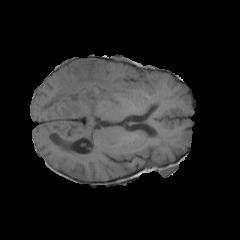glioma: (41, 58, 133, 115)
